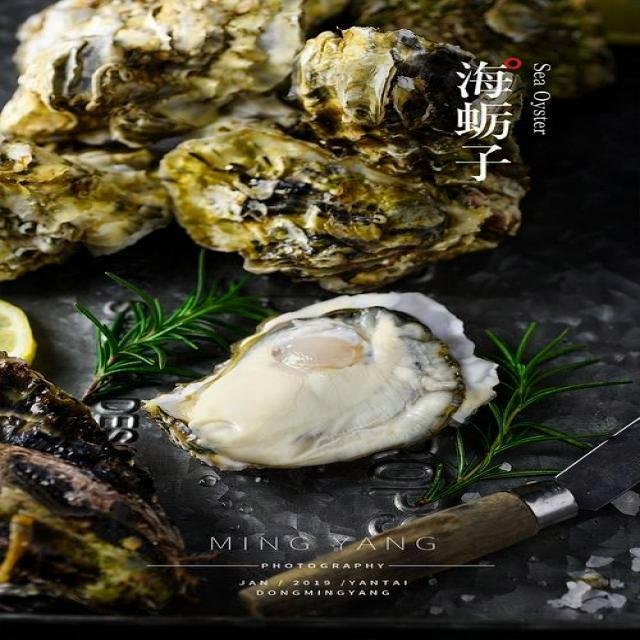Oyster-Closed: (152, 112, 545, 296), (2, 0, 369, 145), (282, 23, 565, 173), (0, 441, 214, 631), (0, 334, 186, 543), (315, 0, 626, 107), (0, 125, 181, 293)
Oyster-Open: (131, 285, 511, 479)
